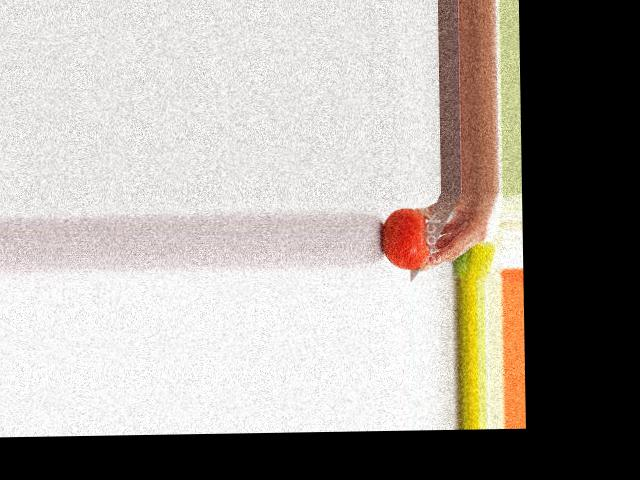tomato: (380, 206, 429, 270)
